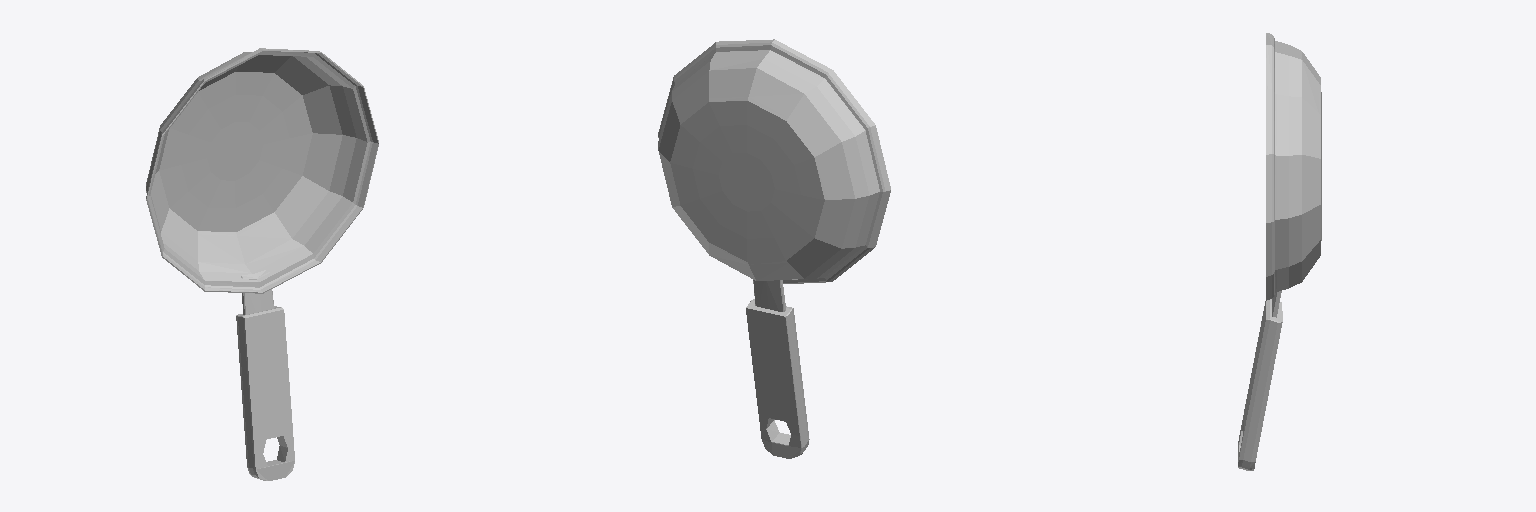
File: pot.obj
3 renders of one model, left to right at view 1: azimuth 30°, elevation 25°; view 2: azimuth 150°, elevation 25°; view 3: azimuth 270°, elevation 25°, orthographic.
Parts seen in each view (by area): view 1: pSphere1_Mesh.001; view 2: pSphere1_Mesh.001; view 3: pSphere1_Mesh.001.
Boxes of the visible parts, x1,y1,x2,y2 form: pSphere1_Mesh.001: [146, 48, 378, 480]; pSphere1_Mesh.001: [658, 39, 890, 458]; pSphere1_Mesh.001: [1238, 33, 1321, 470].
Bounding box in the file's own units: 0.1345 × 0.2332 × 0.0425.